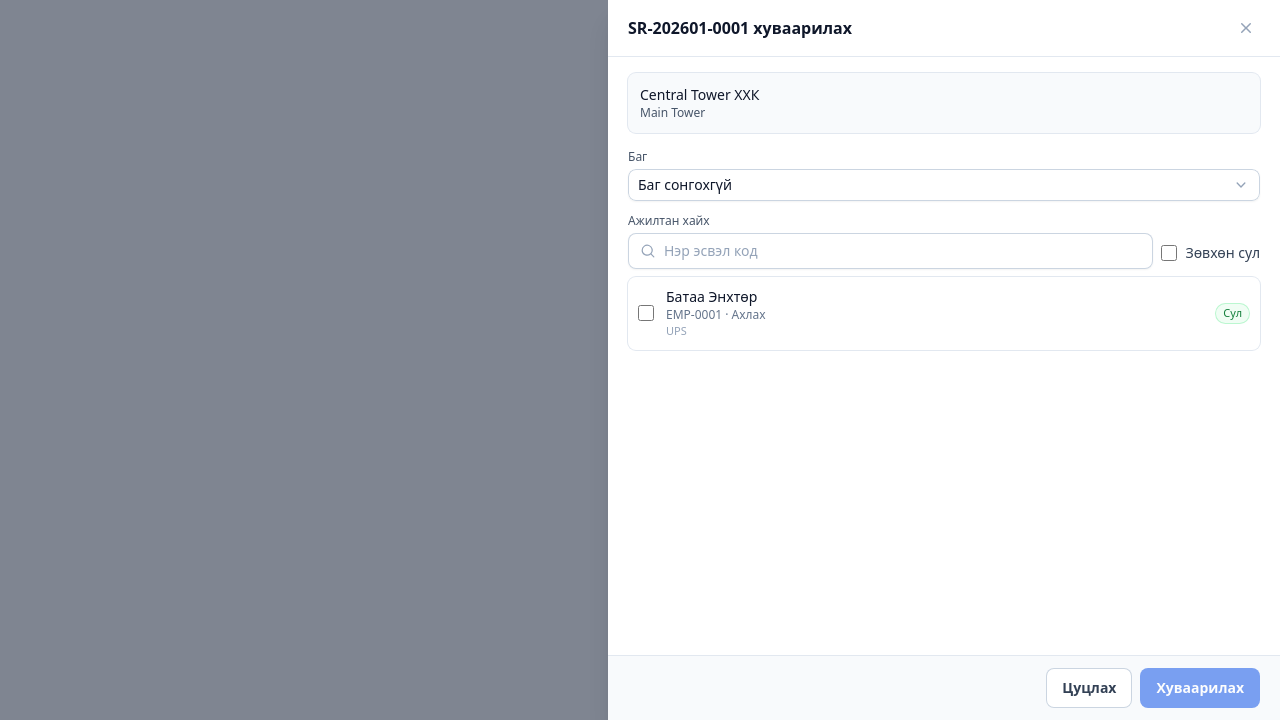
Test case: AssignDrawer › surfaces a backend refusal instead of claiming success
Click the checkbox labelled "Батаа Энхтөр EMP-0001 · Ахлах UPS Сул".
click(646, 313)  # box [638,305,654,321]
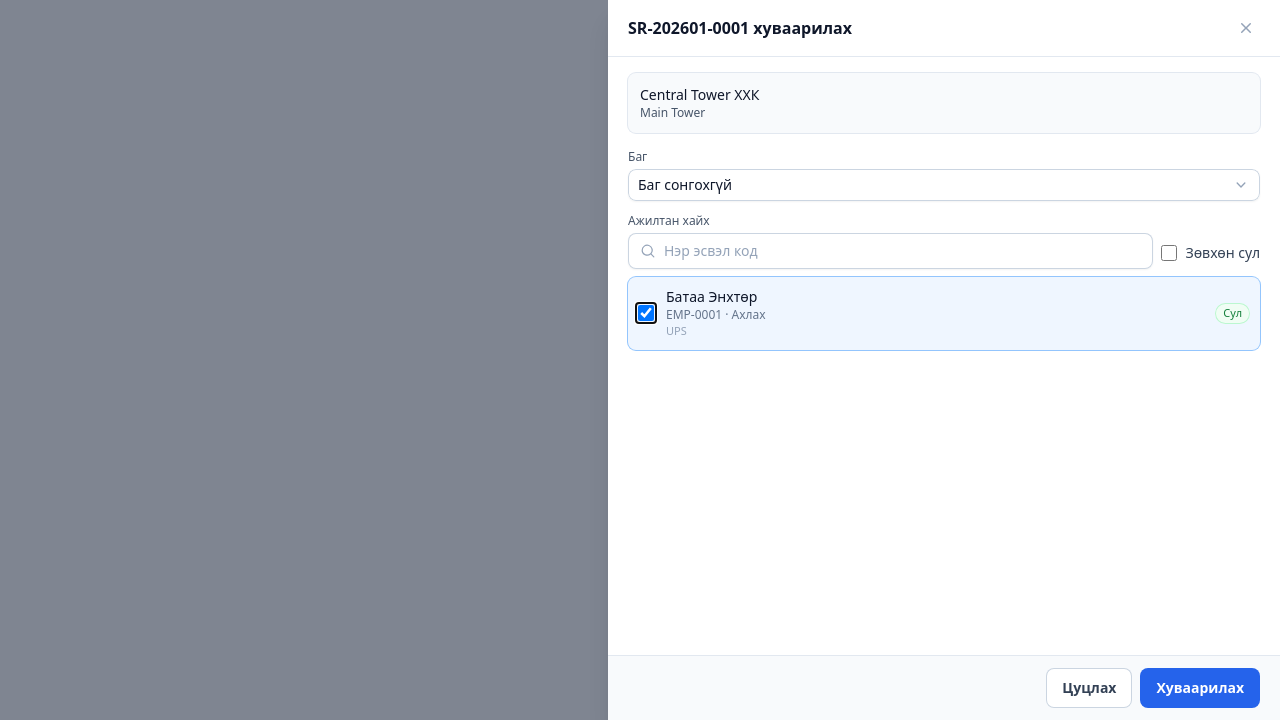
Click the button "Хуваарилах".
click(1200, 688)  # box [1140,668,1260,708]
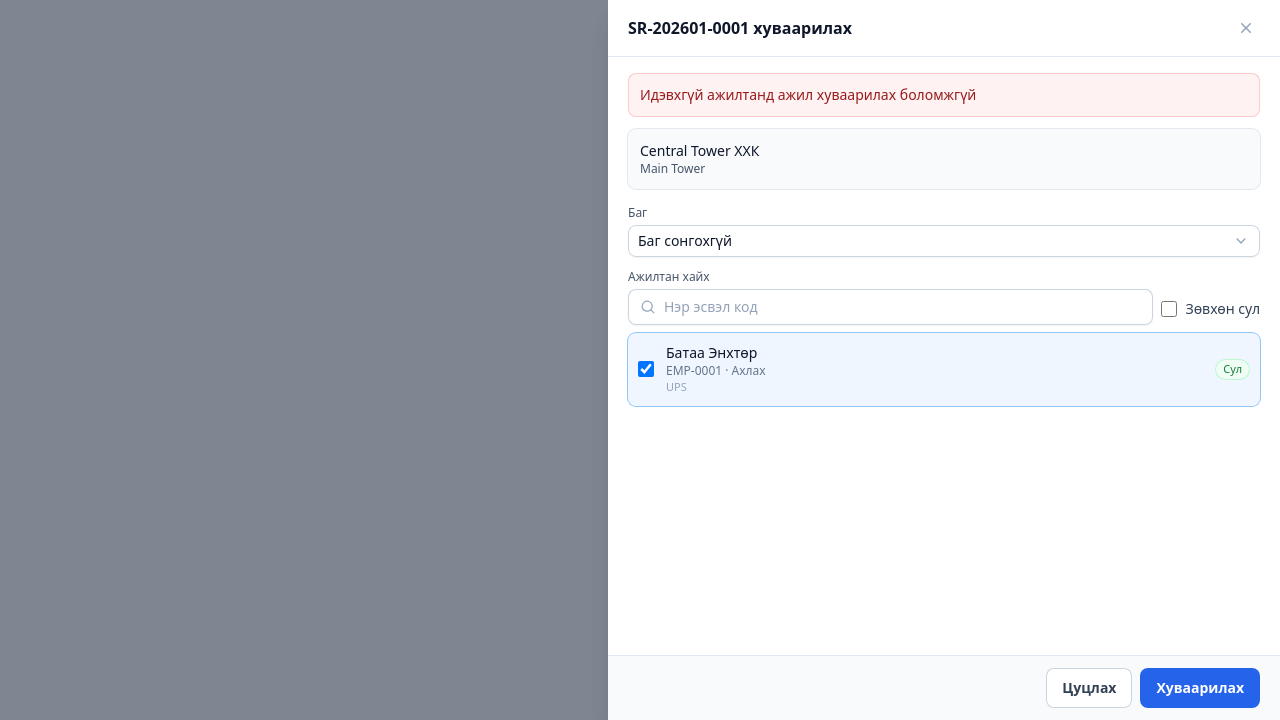
Expected: the text "Идэвхгүй ажилтанд ажил хуваарилах боломжгүй" is shown, [640,85,976,104]
